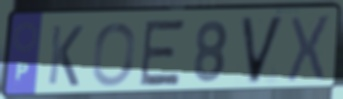8: (192, 19, 231, 85)
E: (137, 17, 188, 89)
K: (45, 23, 85, 89)
O: (90, 20, 138, 88)
V: (238, 13, 288, 87)
X: (284, 13, 333, 85)
